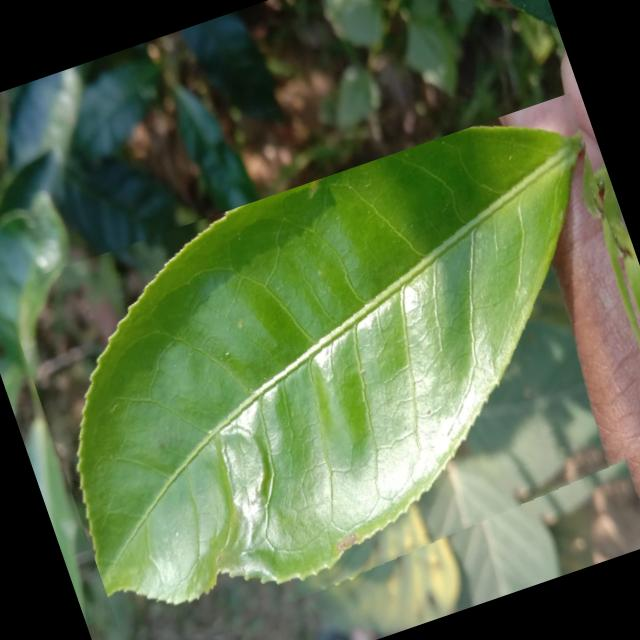Category B(2-4 days): (1, 92, 640, 640)
